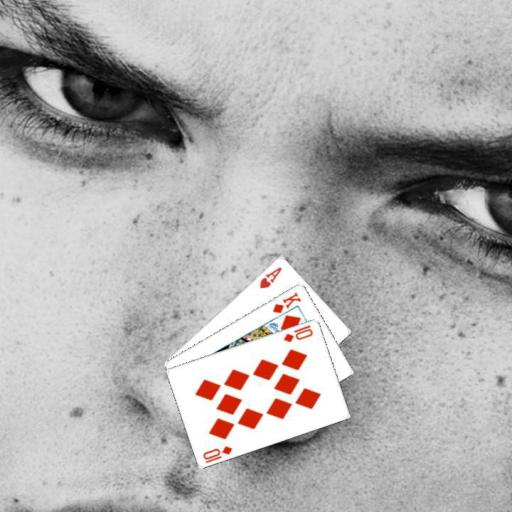10D: (280, 322, 314, 344), (200, 443, 234, 465)
AH: (256, 263, 283, 290)
KD: (269, 289, 302, 314)
